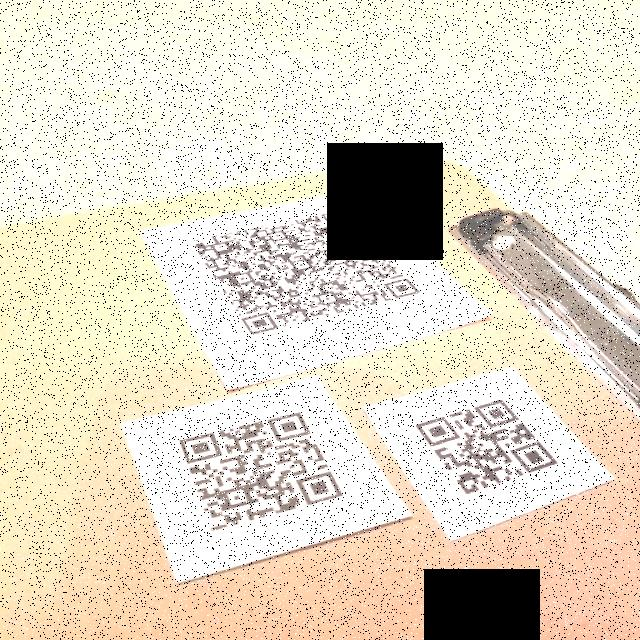QR_CODE: (182, 205, 428, 341), (168, 405, 352, 541), (406, 394, 565, 505)
